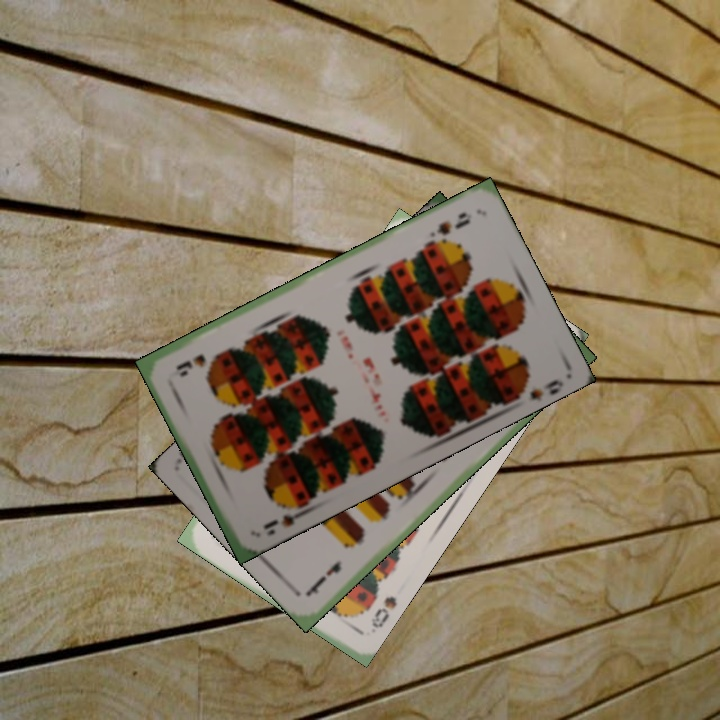E7: (303, 556, 344, 598)
S8: (367, 592, 400, 631)
S9: (259, 496, 308, 538), (432, 208, 472, 238)
